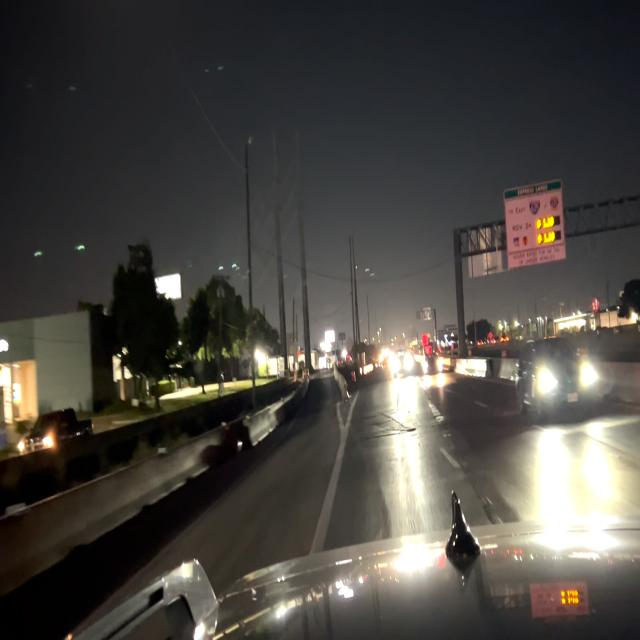back-of-sign: (465, 219, 506, 281), (413, 302, 435, 325)
